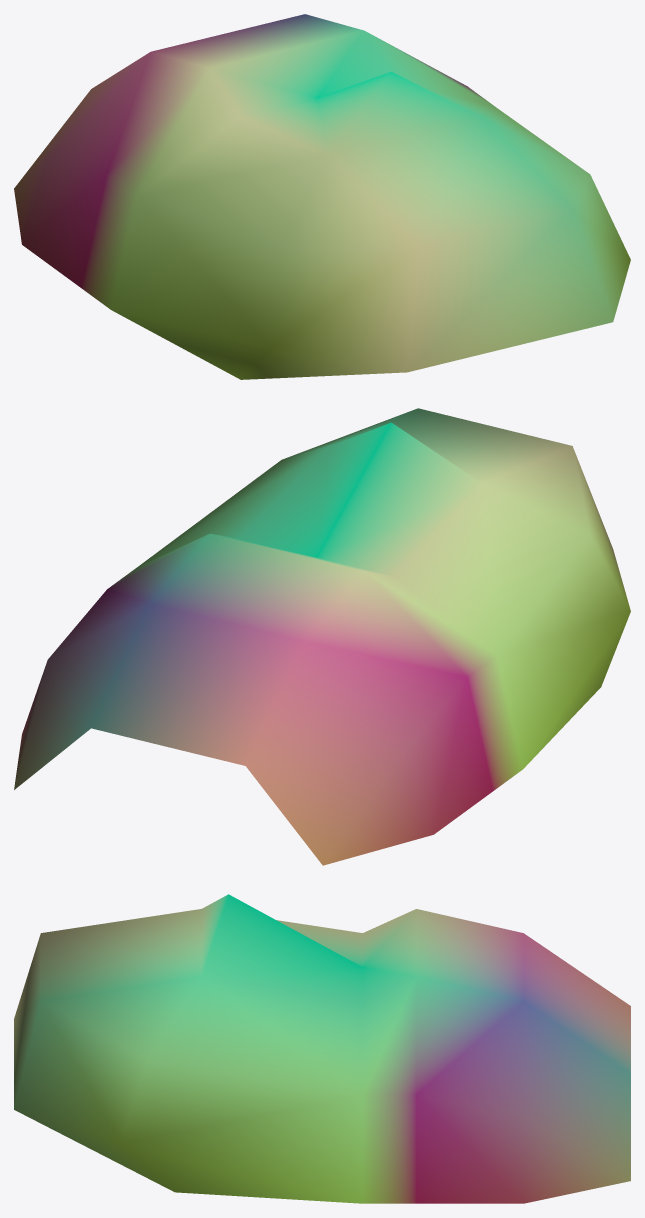
The picture shows the model from 3 angles, top to bottom: view 1: azimuth 30°, elevation 25°; view 2: azimuth 150°, elevation 25°; view 3: azimuth 270°, elevation 25°; orthographic projection. The views are drawn at different scales.
Parts seen in each view (by area): view 1: part; view 2: part; view 3: part.
Part boxes in pixels (left/top/right/bottom): part: left=14, top=14, right=630, bottom=379; part: left=14, top=408, right=630, bottom=865; part: left=14, top=894, right=630, bottom=1203.
Size of the model in its own units: 16 by 9 by 23.
